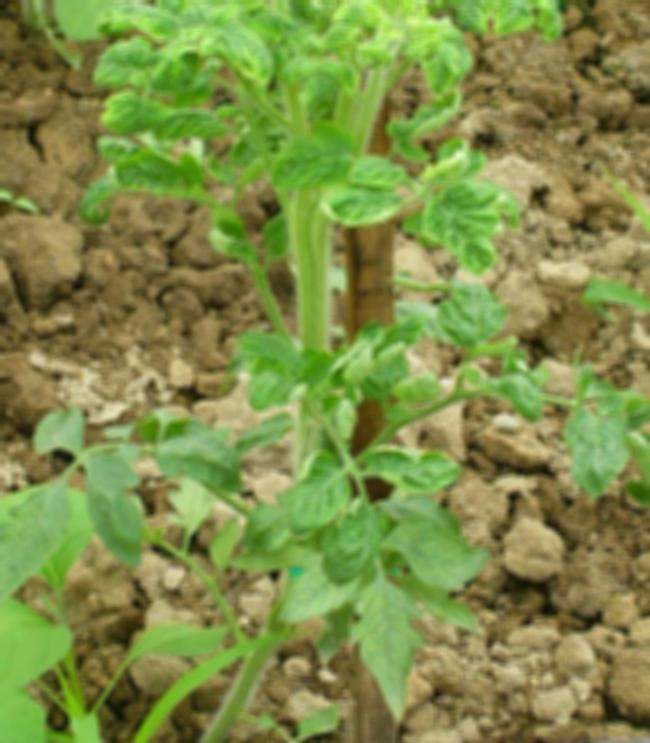Tomato leaf: (348, 551, 426, 723), (0, 483, 82, 609), (426, 181, 518, 273), (258, 121, 372, 193), (84, 445, 158, 551), (562, 401, 640, 501), (436, 277, 504, 361)
